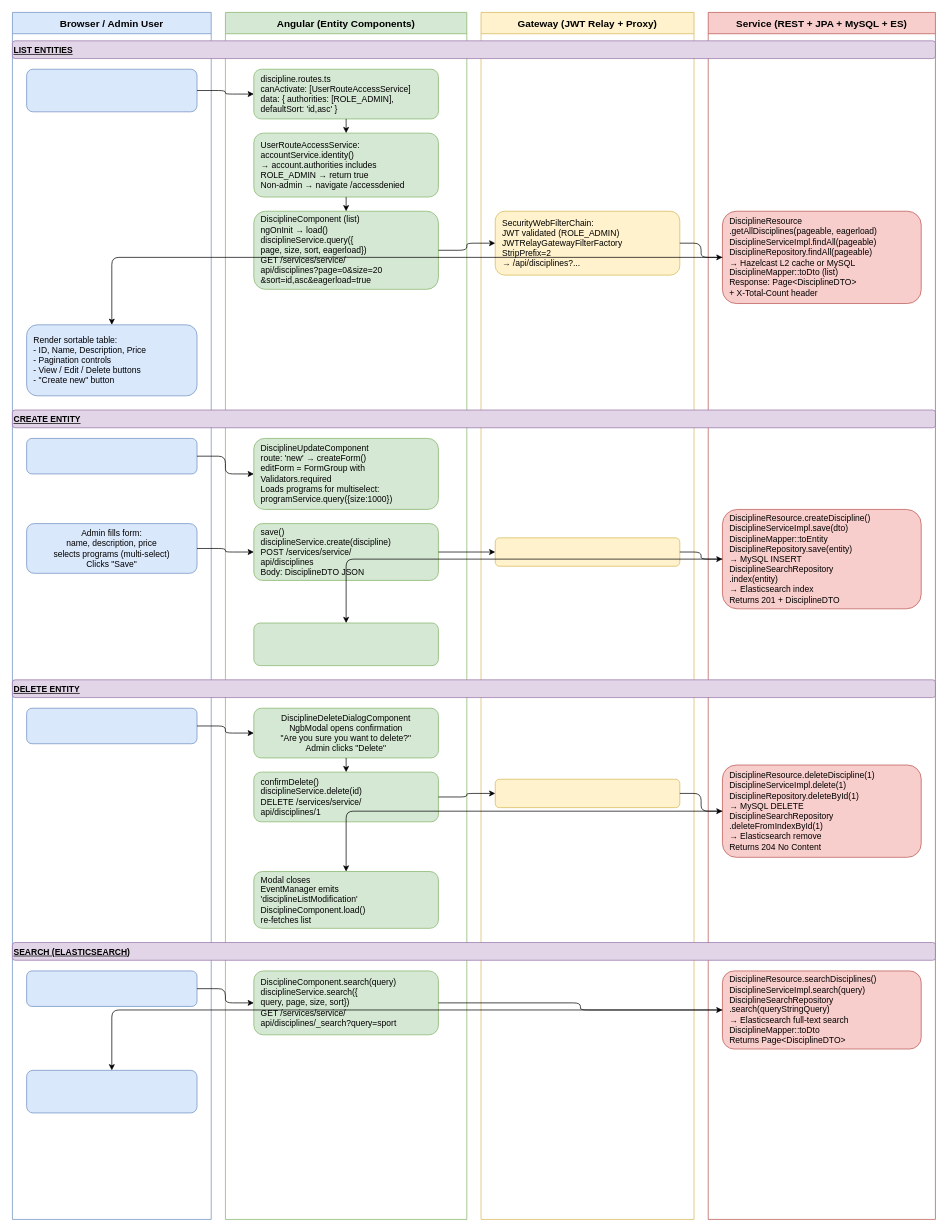
The diagram is 948 pixels wide and 1232 high, and some of its shapes have lost their labels. Here are the shapes that lost their labels. From the top down, the centre of each, then its label:
(x=111, y=90): Admin clicks "Manage Content" → e.g. "Disciplines" → /discipline
(x=111, y=456): Admin clicks "Create new" → /discipline/new
(x=587, y=551): JWT relay → POST /api/disciplines
(x=345, y=644): onSaveSuccess() router.navigate(['/discipline']) Back to list view
(x=111, y=726): Admin clicks "Delete" button on list row
(x=587, y=793): JWT relay → DELETE /api/disciplines/1
(x=111, y=988): Admin types in search box and presses Enter
(x=111, y=1091): Search results replace table contents Pagination updates
